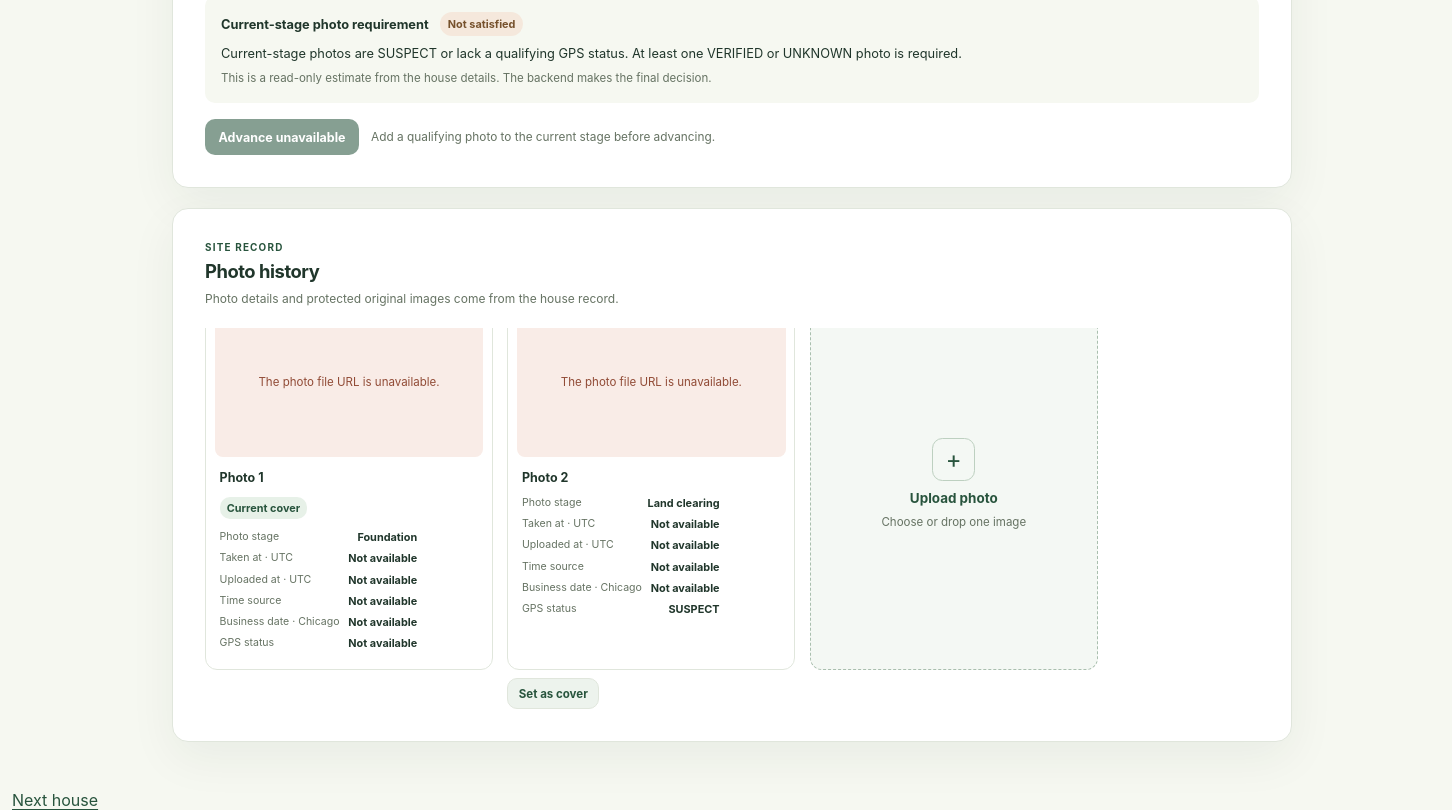
it: house detail page › does not apply a late cover result to a different house route
The width and height of the screenshot is (1452, 810).
(page scrolled)
Click the button with aria-label "Set photo 2 as cover": (553, 694) [507,678,599,709]
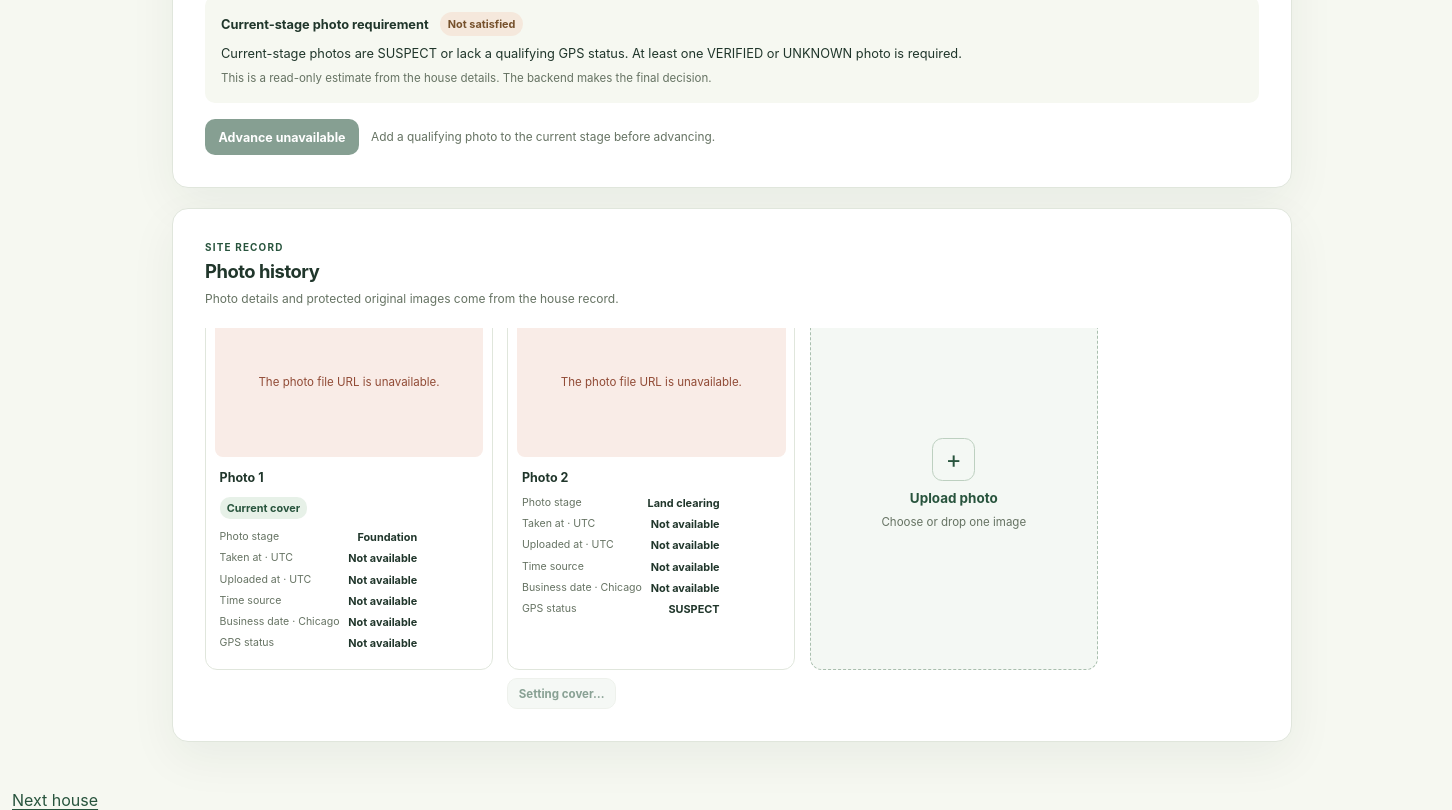
Click the link "Next house": (55, 800) [12,790,98,809]
(page scrolled)
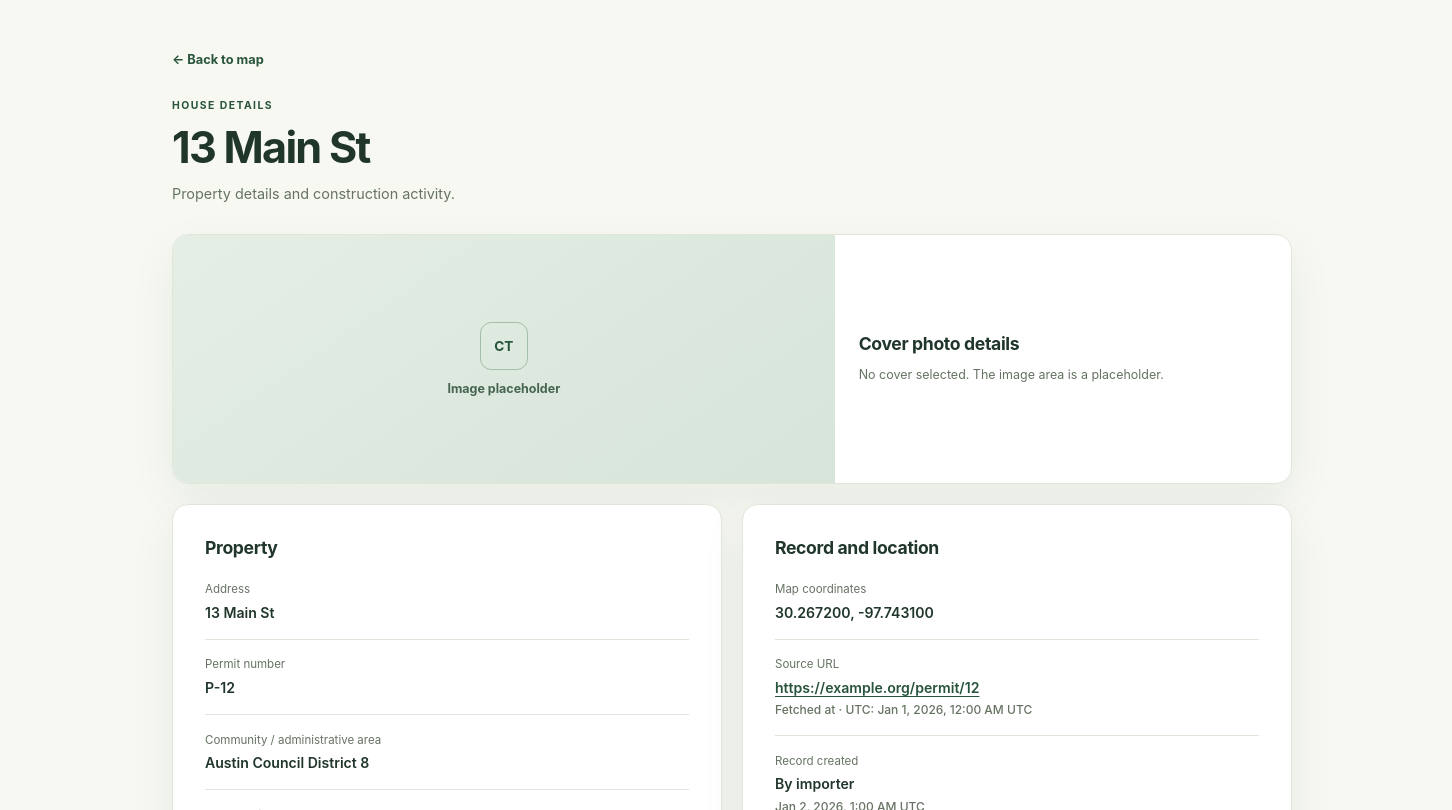
Result: the heading "13 Main St" is shown at [172,121,370,173]
Result: the text "No cover selected. The image area is a placeholder." is shown at [859,367,1164,382]
